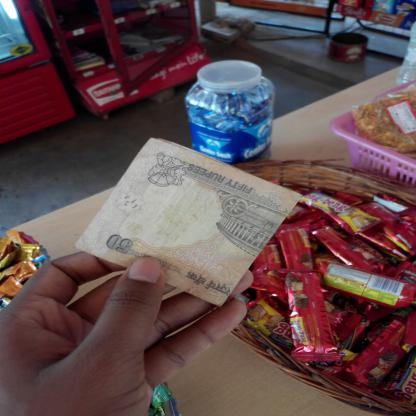Old50Back: (73, 138, 302, 308)
